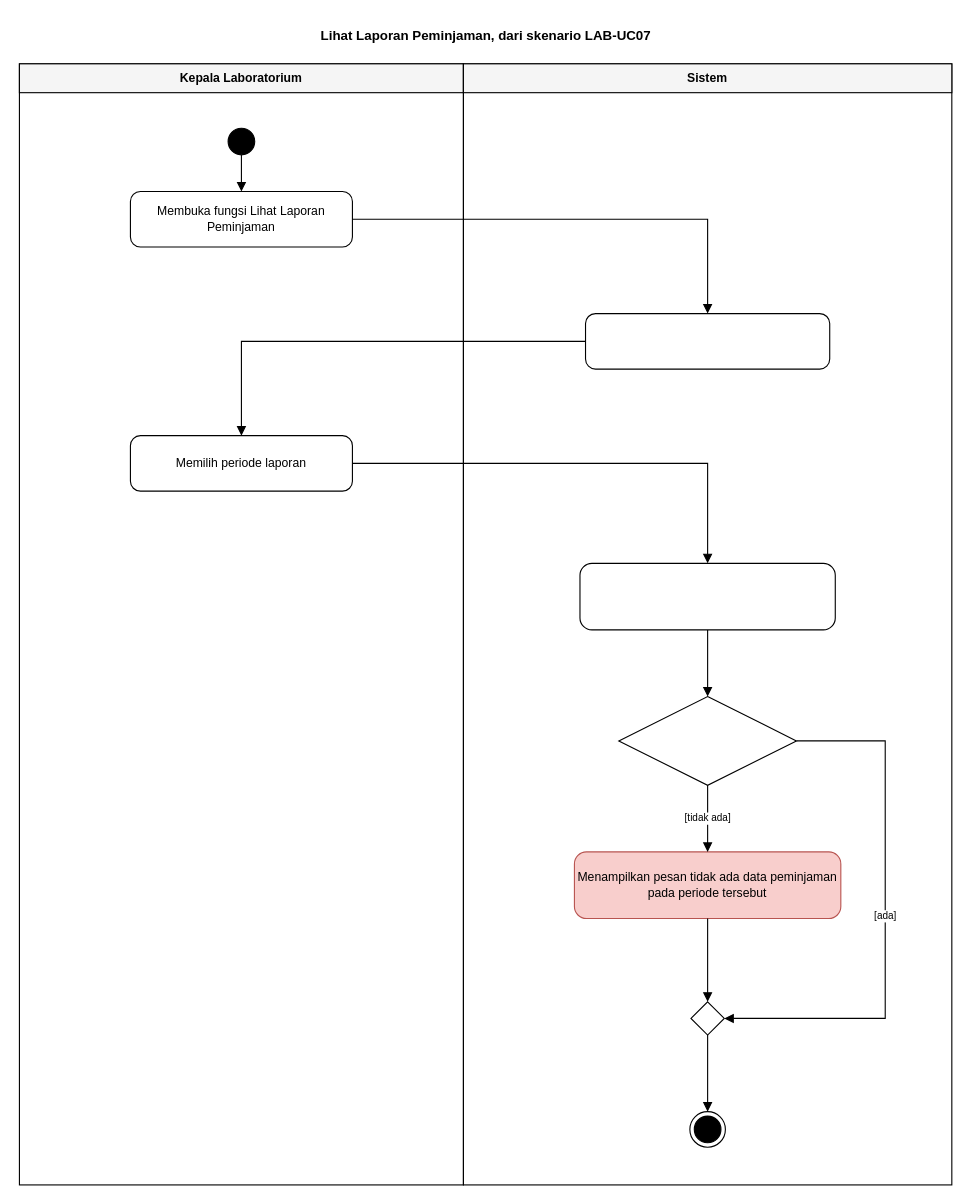
The diagram is 971 pixels wide and 1204 high, and some of its shapes have lost their labels. Each missing label, with the box of its shape:
Ada data peminjaman?: (618, 695, 796, 785)
Menampilkan daftar periode laporan: (584, 312, 830, 369)
Menampilkan laporan peminjaman periode yang dipilih: (579, 562, 835, 630)
